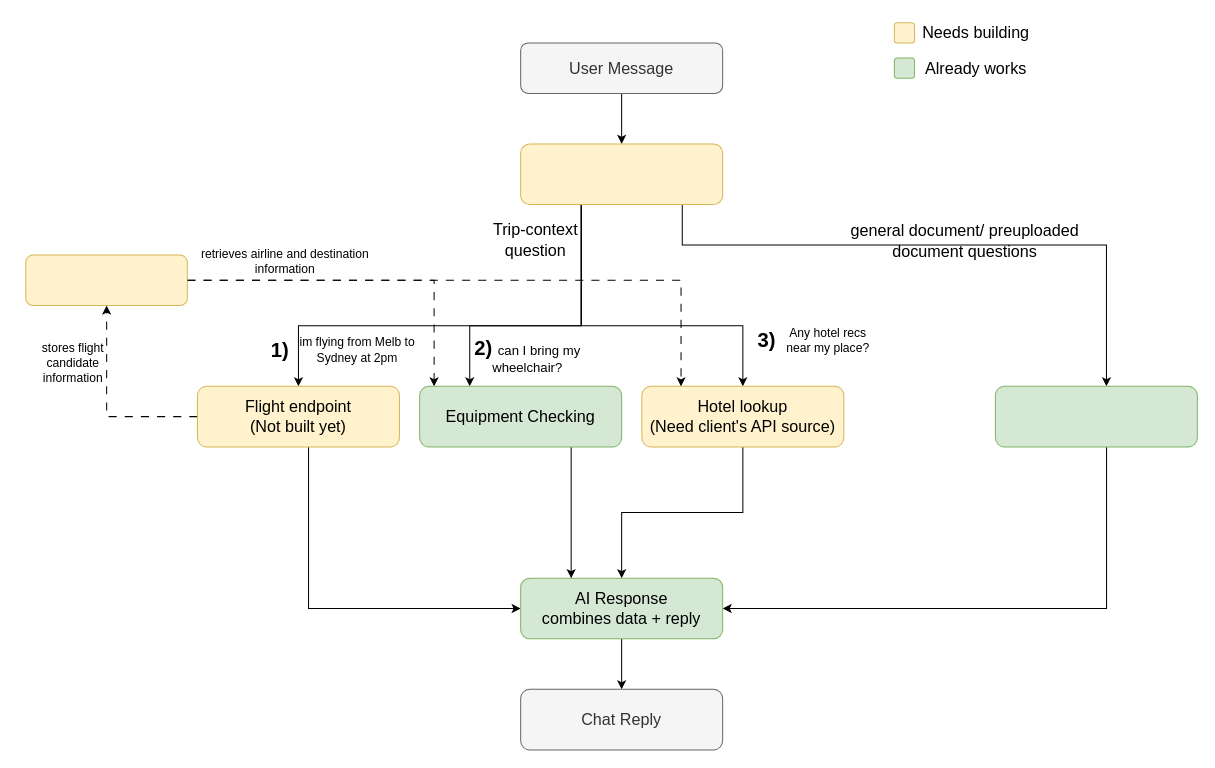
The diagram is 1215 pixels wide and 768 high, and some of its shapes have lost their labels. Here are the shapes that lost their labels. From the top down, the centre of each, then its label:
At point 621,174: "Intent Router (Flight or General?)".
At point 106,280: "Selection Storage (Not built yet)".
At point 1095,416: "Pinecone AI Already working".
